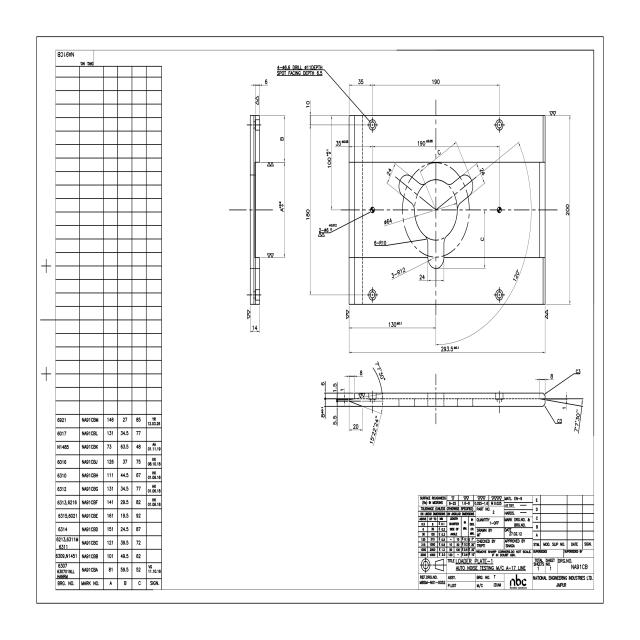dimension: (276, 62, 324, 78), (367, 414, 379, 445), (374, 359, 387, 382), (318, 222, 338, 234), (390, 266, 407, 279), (439, 345, 461, 354), (416, 138, 434, 148), (573, 408, 580, 432), (335, 138, 349, 148), (326, 148, 332, 170), (387, 320, 403, 328), (512, 268, 520, 282), (383, 217, 393, 227), (373, 239, 387, 246), (277, 200, 284, 213), (304, 209, 311, 222), (478, 166, 485, 179), (385, 166, 393, 177), (304, 98, 311, 110), (431, 78, 441, 86), (331, 381, 338, 392), (250, 323, 259, 331), (357, 77, 365, 86), (564, 202, 570, 214), (320, 406, 326, 418), (332, 414, 338, 426), (352, 422, 360, 431), (418, 273, 426, 281), (556, 417, 563, 424), (358, 369, 364, 377), (574, 368, 582, 374), (549, 372, 554, 381), (479, 236, 485, 243), (320, 380, 326, 387), (279, 135, 284, 143), (264, 78, 269, 85), (339, 387, 346, 392), (437, 149, 441, 156), (562, 406, 568, 410)
